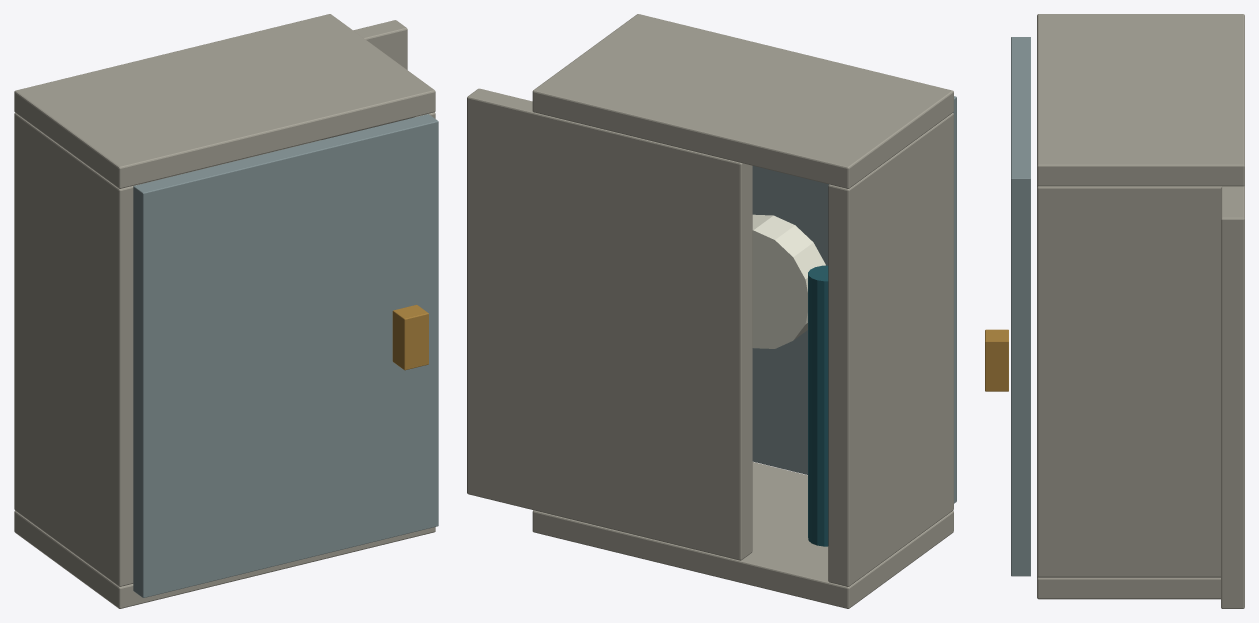
The model's file is source-edit.glb.
3 views of the same model, side by side, from view 1: azimuth 30°, elevation 25°; view 2: azimuth 150°, elevation 25°; view 3: azimuth 270°, elevation 25° (orthographic).
Visible parts, largest first — view 1: Door_Panel, Side, Cap, Cap.001, Latch, Back; view 2: Back, Side, Cap, Cap.001, Door_Panel, Meter_Dial, Water_Pipe; view 3: Side.001, Cap, Door_Panel, Back, Cap.001, Latch.
Part boxes in pixels (x1,y1,x2,y2): Door_Panel: (133,114,438,597); Side: (14,113,138,586); Cap: (14,14,435,188); Cap.001: (14,511,435,608); Latch: (392,304,428,370); Back: (139,20,407,184); Back: (467,88,752,560); Side: (828,113,953,586); Cap: (532,14,953,188); Cap.001: (532,462,953,608); Door_Panel: (752,96,956,503); Meter_Dial: (752,214,825,348); Water_Pipe: (808,265,828,546); Side.001: (1037,185,1221,577); Cap: (1037,14,1244,186); Door_Panel: (1011,37,1030,576); Back: (1221,185,1244,608); Cap.001: (1037,576,1220,599); Latch: (985,329,1008,391).
Size of the model in its own units: 0.543 by 0.6 by 0.325.
